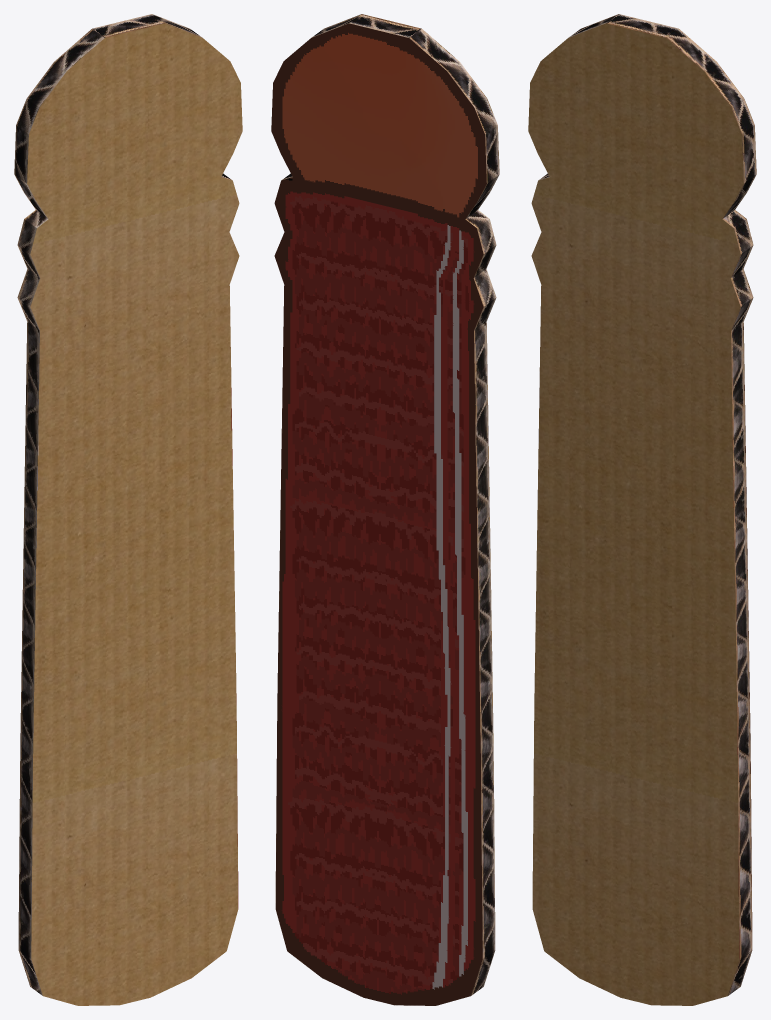
File: BRAZO.glb
3 renders of one model, left to right at view 1: azimuth 30°, elevation 25°; view 2: azimuth 150°, elevation 25°; view 3: azimuth 330°, elevation 25°, orthographic.
Visible parts, largest first — view 1: BRAZO; view 2: BRAZO; view 3: BRAZO.
Part boxes in pixels (<box>): BRAZO: <box>14,14,242,1005</box>; BRAZO: <box>271,14,499,1005</box>; BRAZO: <box>528,14,756,1005</box>.
Size of the model in its own units: 0.8723 by 3.75 by 0.09.
Materials: 1 (1 with a texture image).
